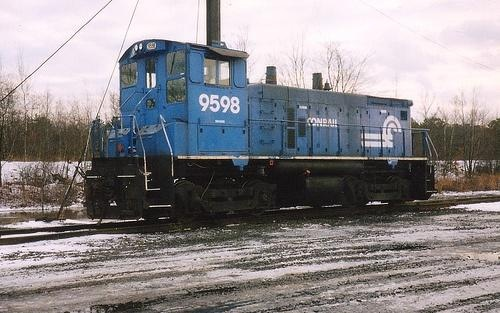train: (85, 36, 447, 225)
